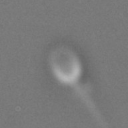normal: (71, 83, 119, 128)
